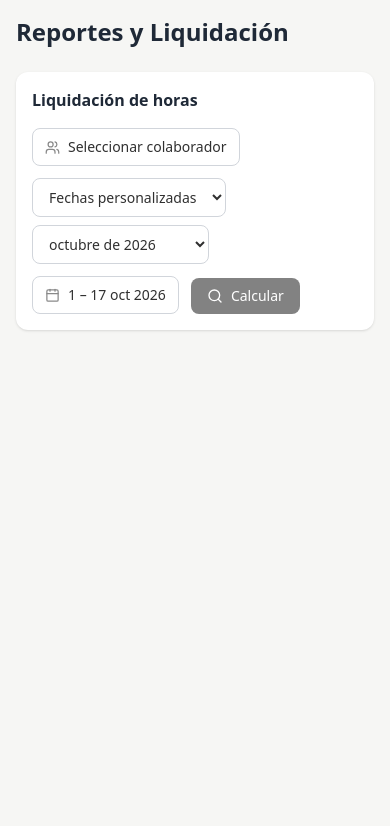
Test: el total trabajado y el cruce de las extras en el reporte por persona › muestra qué pasaría si se cruzaran, y aclara que no es lo que se liquida
The image size is (390, 826).
Click the button "Seleccionar colaborador": (136, 147) [32, 128, 240, 166]
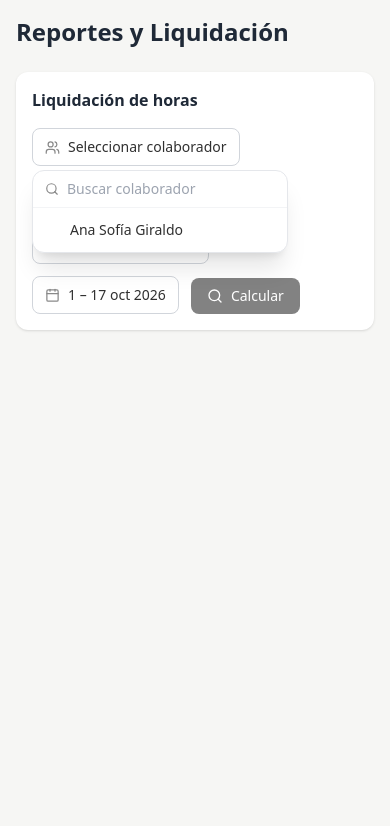
Click the button "Ana Sofía Giraldo": (160, 230) [33, 212, 287, 248]
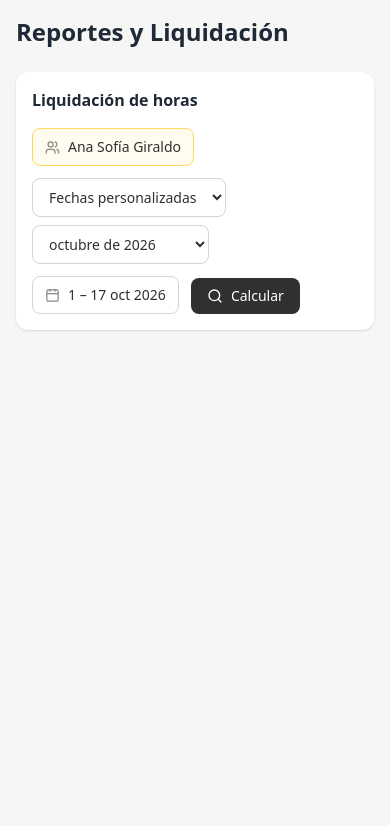
Click the button "Calcular": (245, 296) [191, 278, 300, 314]
(page scrolled)
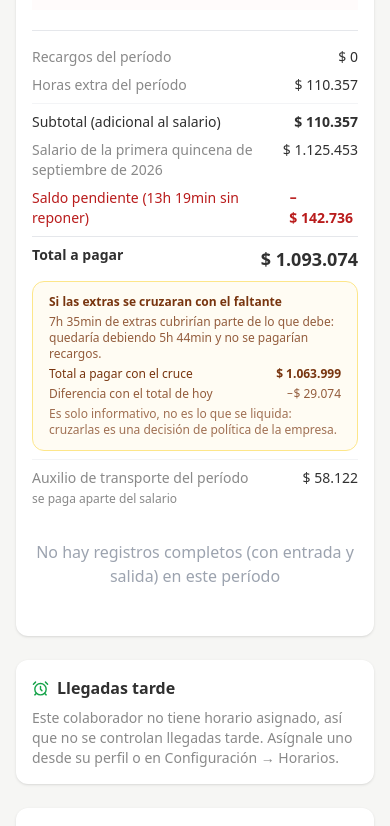
Expected: the text "Si las extras se cruzaran con el faltante" is shown, [49, 293, 282, 310]
Expected: the text "no es lo que se liquida" is shown, [49, 405, 337, 438]
